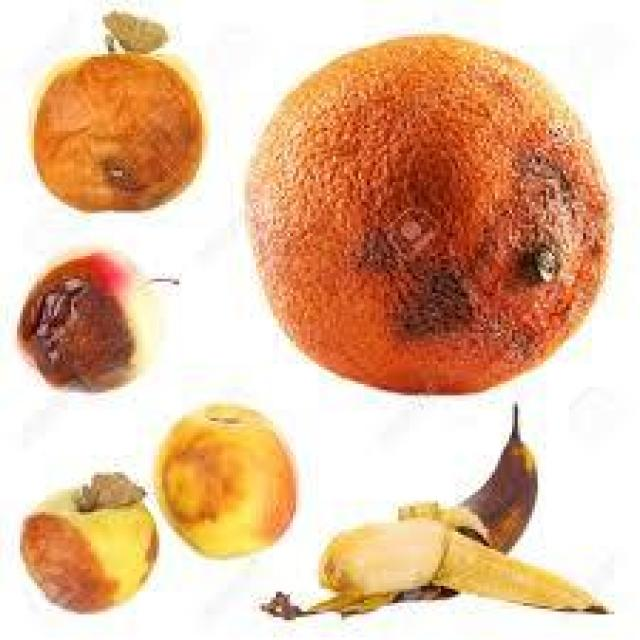organic: (245, 34, 612, 398), (262, 407, 614, 620), (28, 51, 208, 213), (151, 401, 299, 563), (20, 472, 159, 614), (17, 253, 148, 395)
